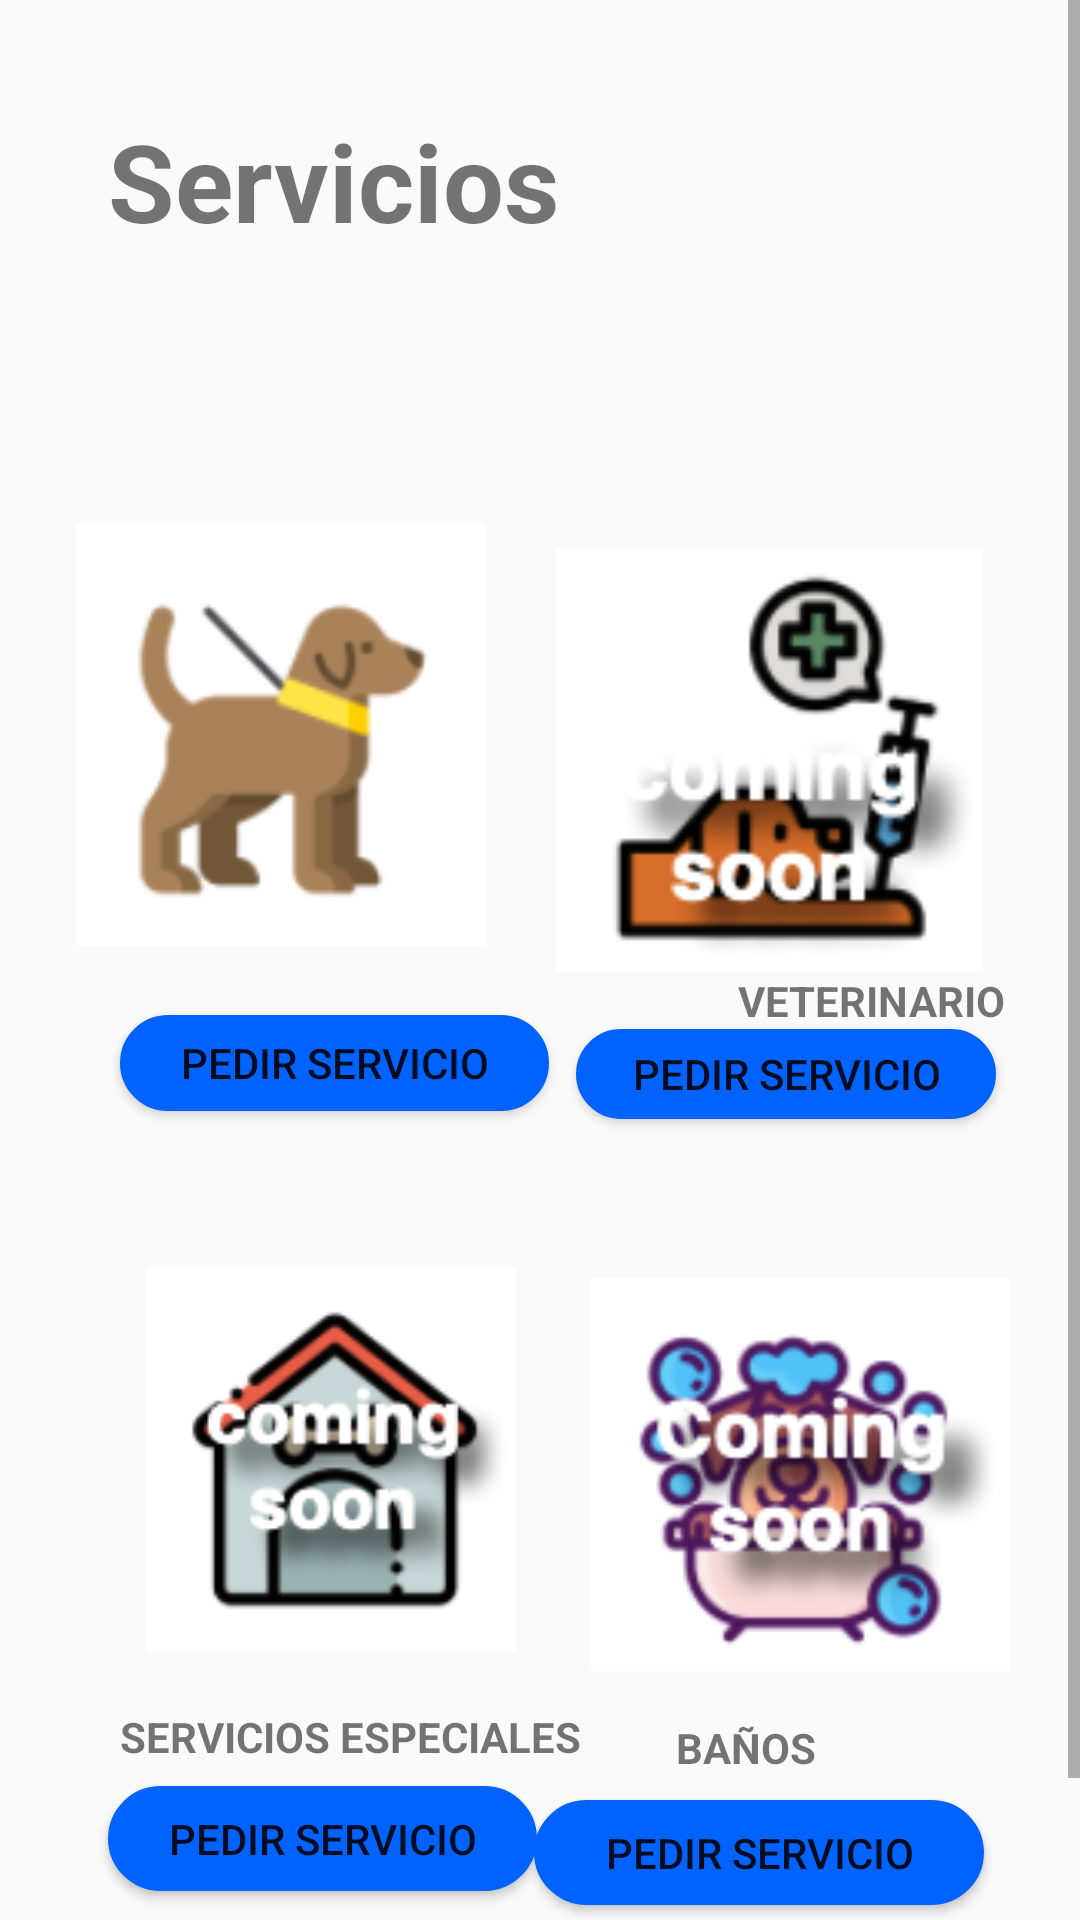

Icons on this 1080 x 1920 Android screen, each with its box as bbox=(x1, y1, x2, y2):
paseo: bbox=(138, 604, 426, 896)
